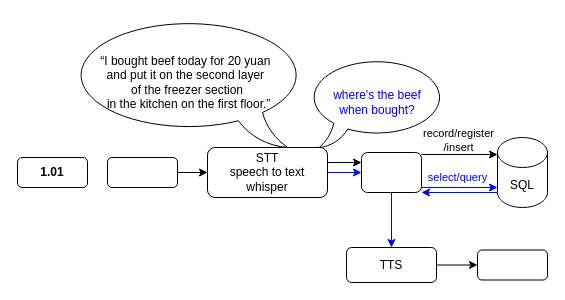
Image size: 565x300. Some labels were removed from this diagram. Each missing label, with the box of its shape:
INPUT: (106, 156, 178, 188)
LLM Qwen: (360, 152, 422, 192)
OUTPUT: (476, 249, 548, 280)
